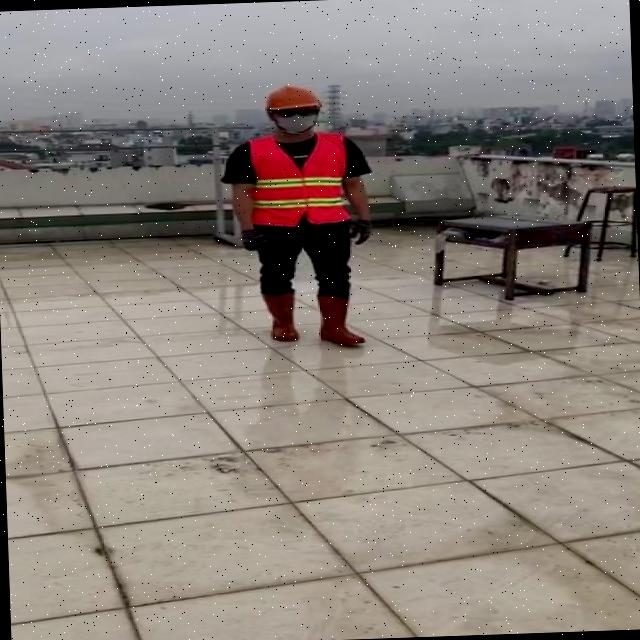boots: (318, 290, 366, 346), (260, 290, 302, 344)
